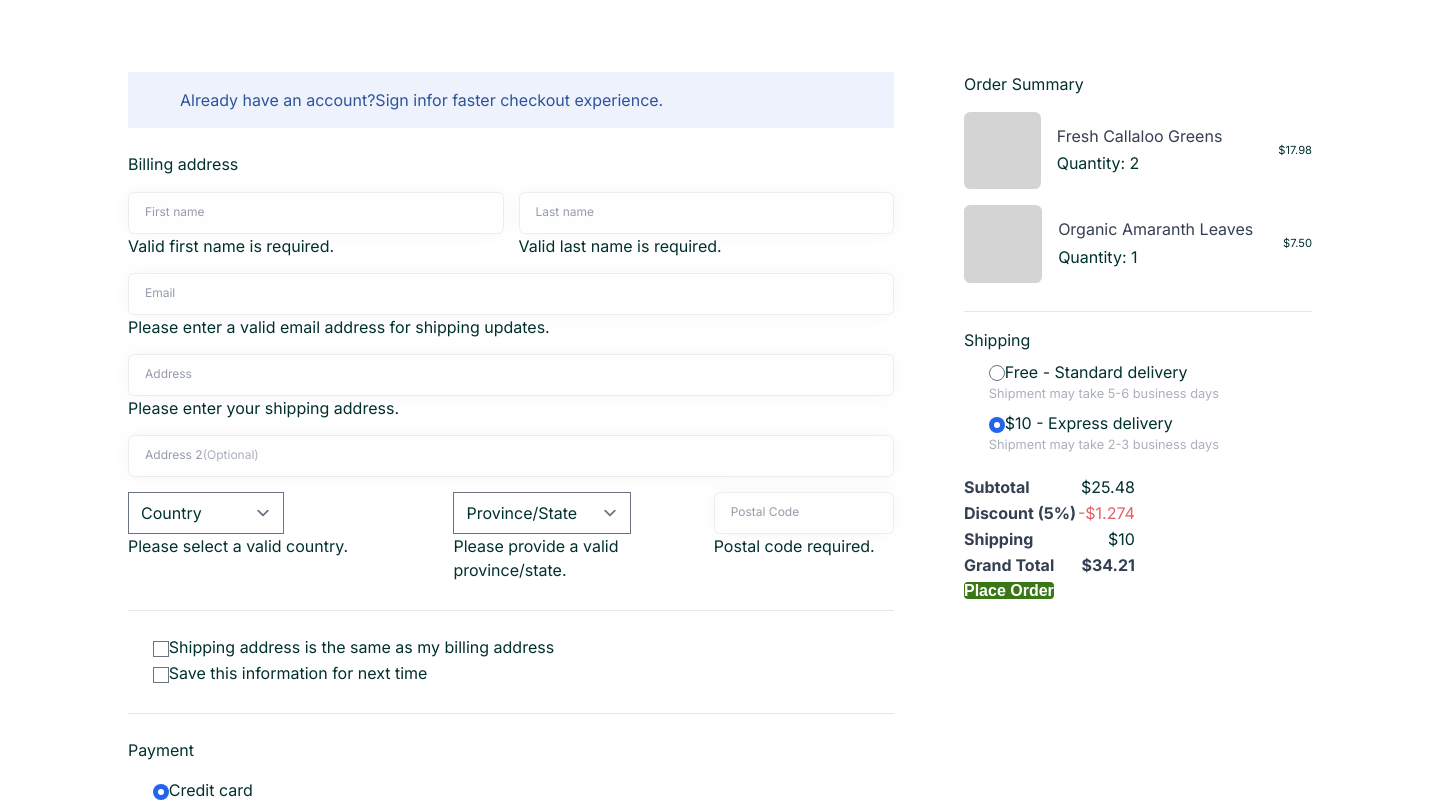
Test case: Checkout Component › User Interaction Tests › allows user to select shipping method
The width and height of the screenshot is (1440, 807).
Expected: the radio button labelled "$10 - Express delivery" is checked, [989,417,1005,433]
Note: Switch to standard shipping
Click the radio button labelled "Free - Standard delivery".
click(997, 373)  # box [989,365,1005,381]
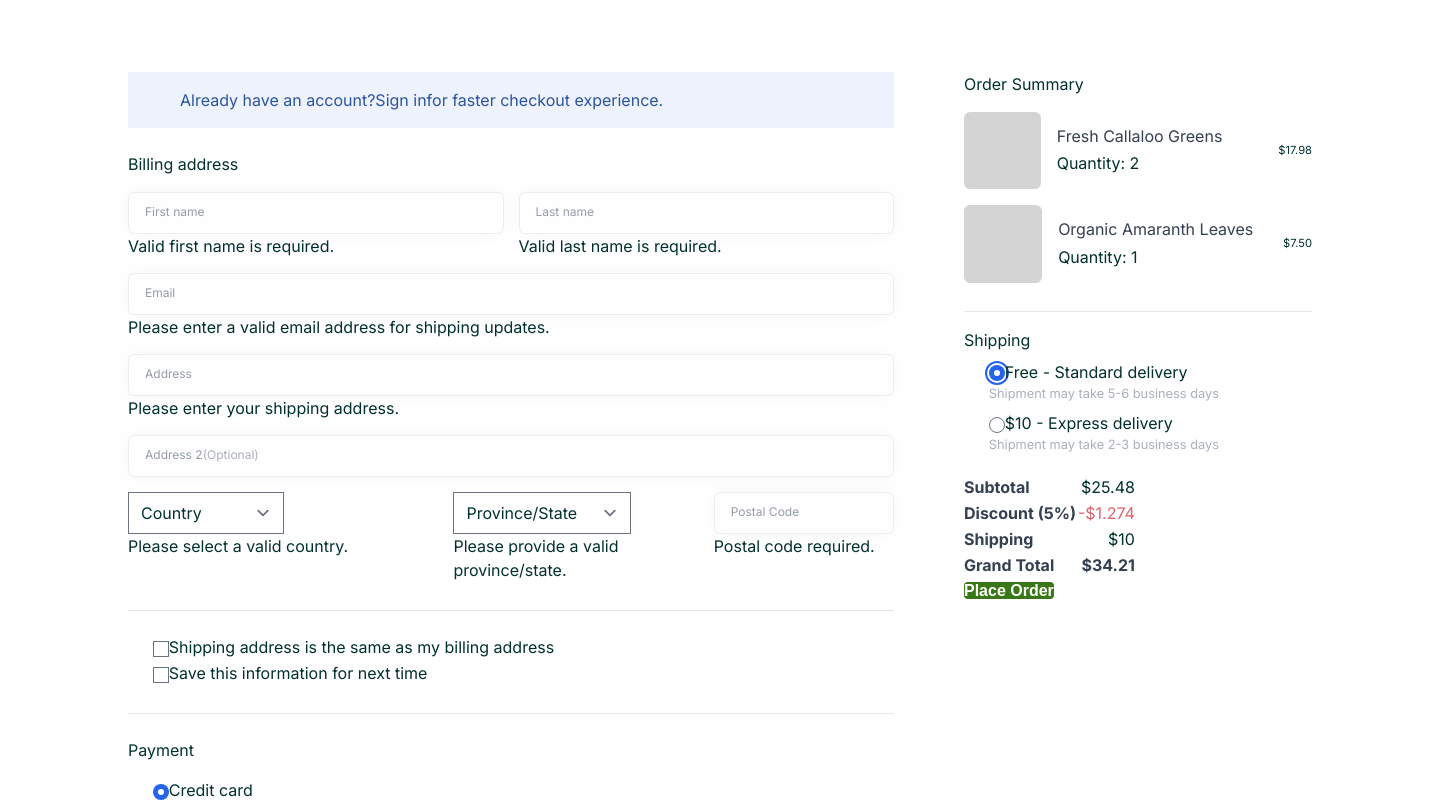
Expected: the radio button labelled "Free - Standard delivery" is checked, [989,365,1005,381]
Expected: the radio button labelled "$10 - Express delivery" is not checked, [989,417,1005,433]
